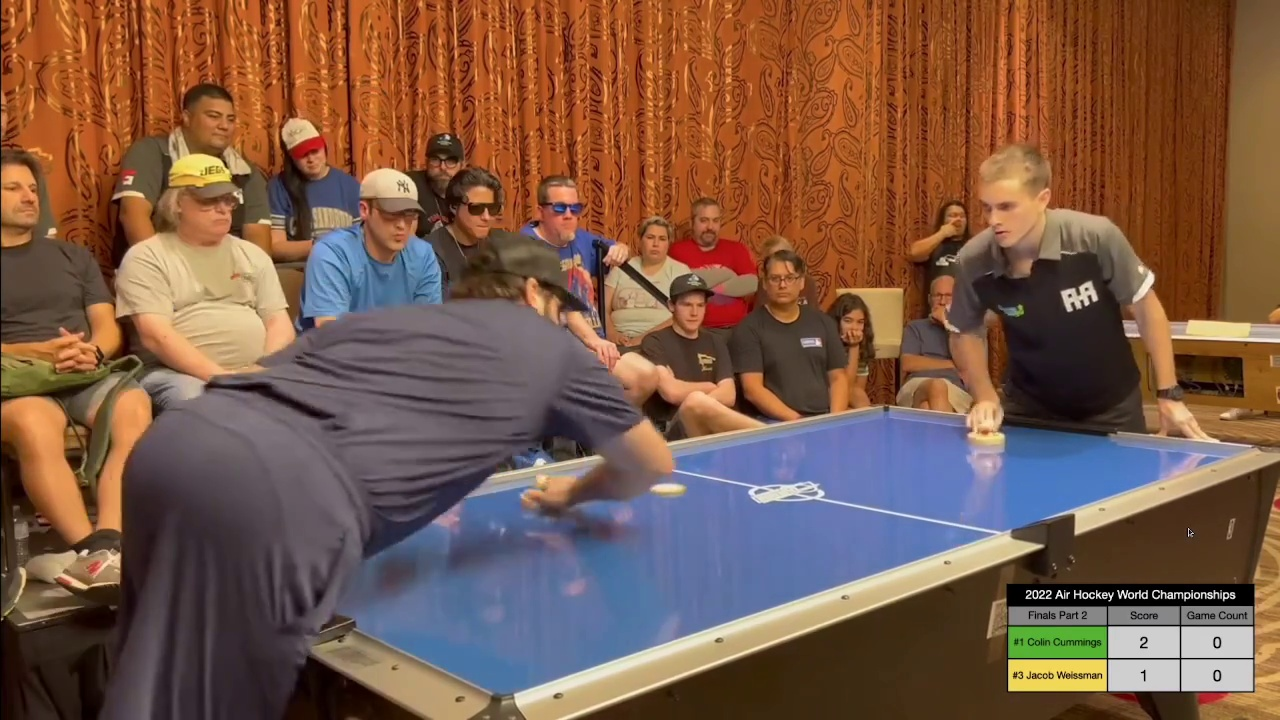player: (522, 479, 573, 516), (962, 417, 1006, 449)
puck: (651, 481, 692, 497)
table: (250, 407, 1280, 701)
